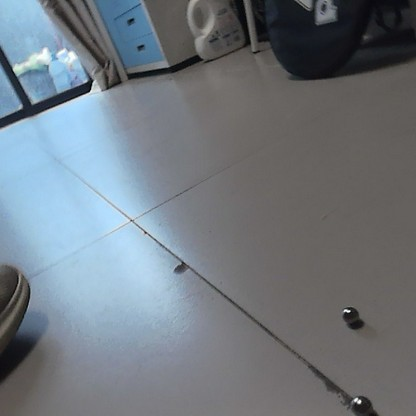ironball: (348, 389, 376, 414), (338, 303, 361, 326)
